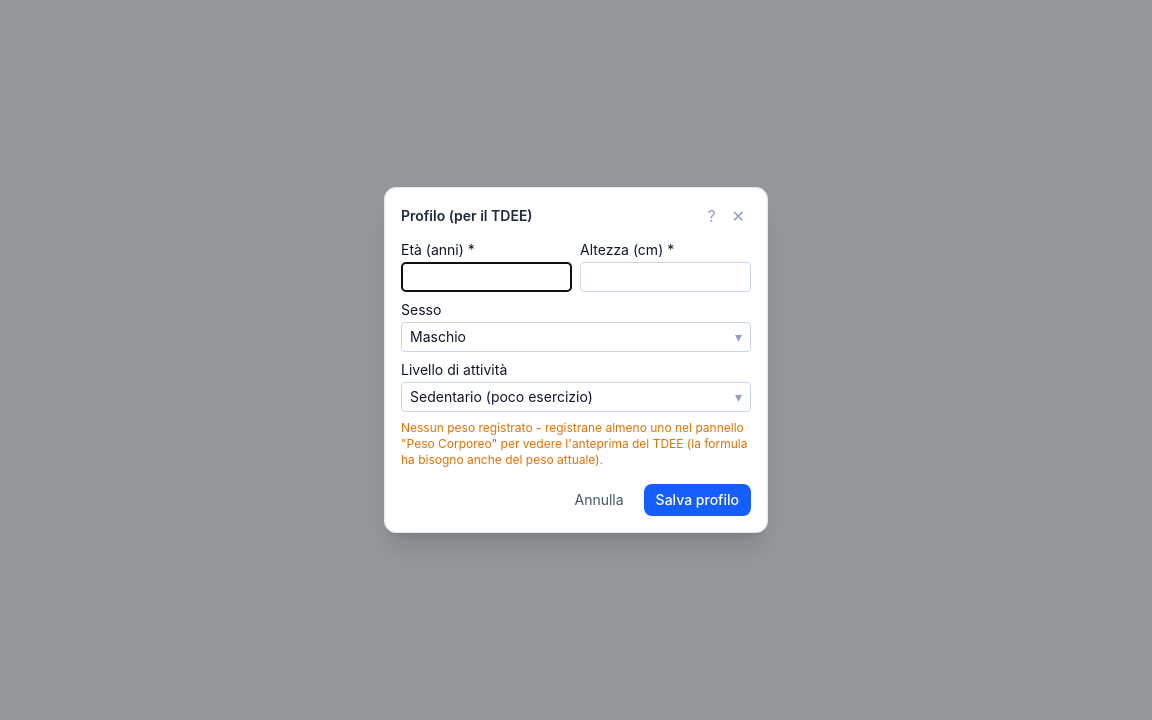
Test: ProfileModal › ProfileModal_etaFuoriRange_mostraErroreSenzaSalvare
The width and height of the screenshot is (1152, 720).
expect the text "Livello di attività" is shown: met, box [401,361,507,378]
Type "200" into the number field labelled "Età (anni) *".
click(486, 277); type("200")  # box [401,262,572,292]
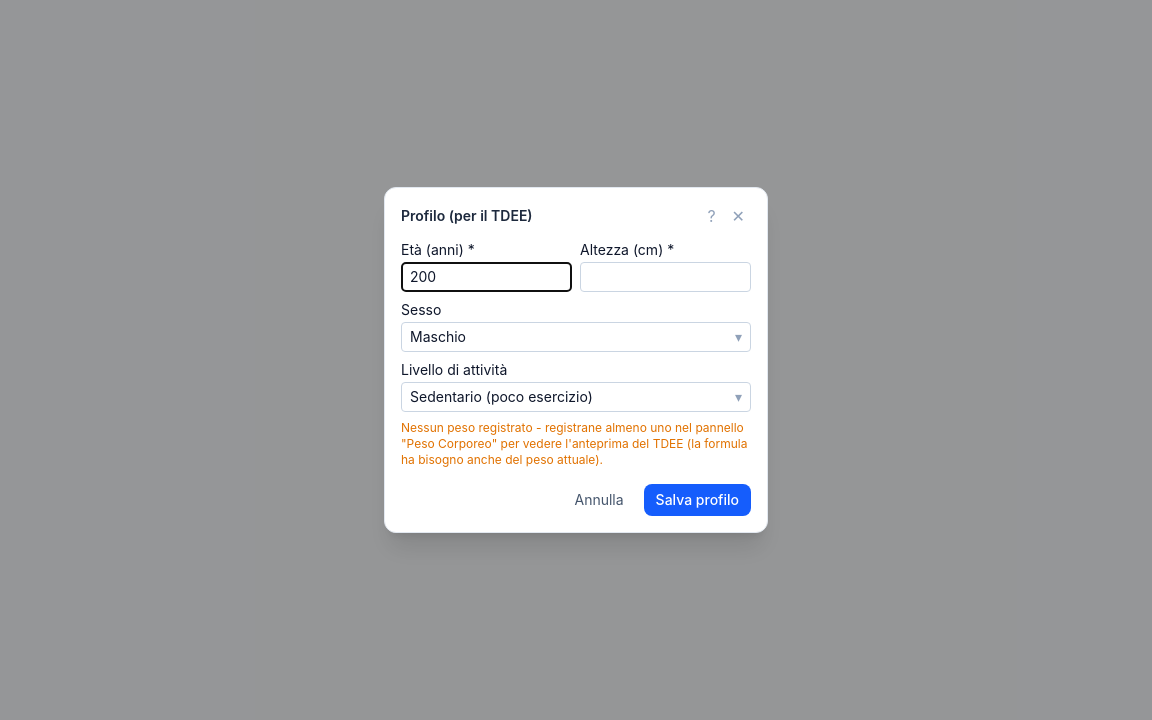
Type "180" into the number field labelled "Altezza (cm) *".
click(666, 277); type("180")  # box [580,262,751,292]
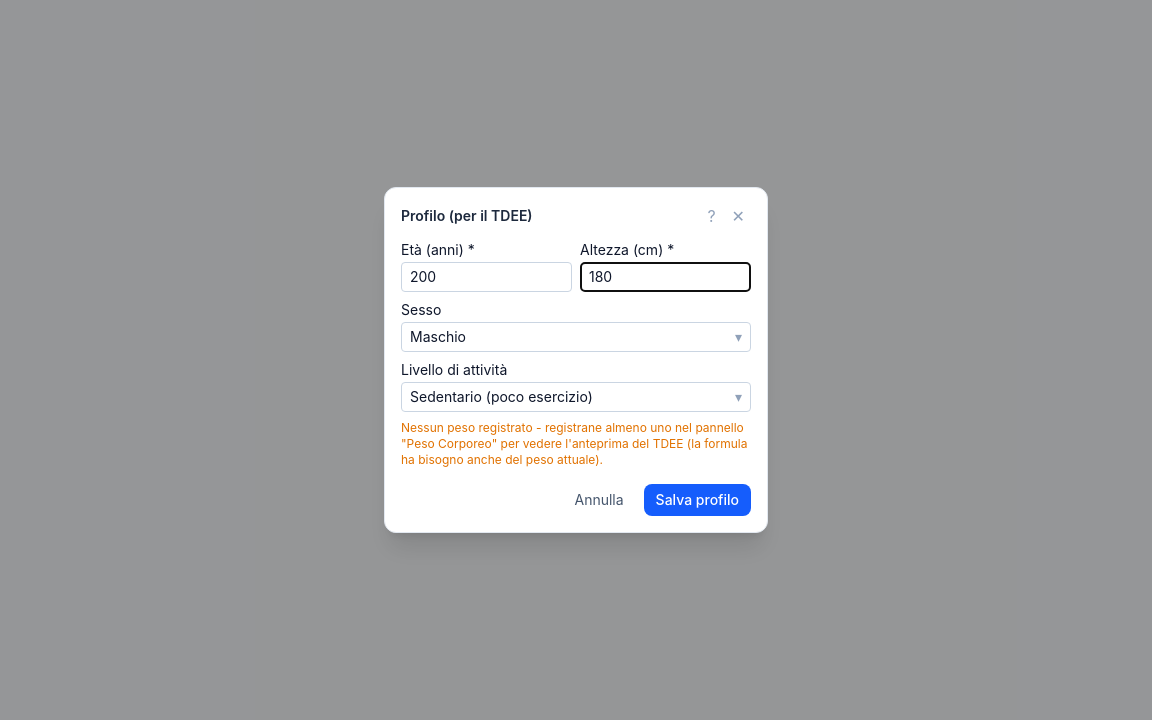
Submit the form labelled "Età (anni) *", box [401,240,751,516]
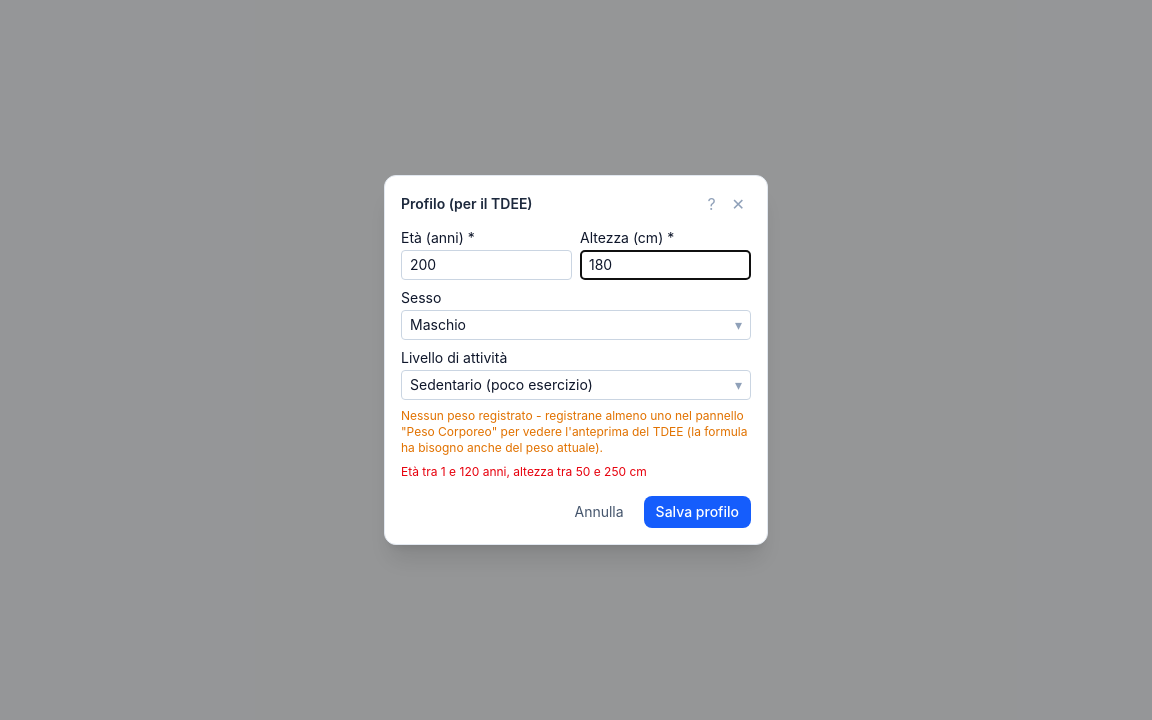
expect the text "Età tra 1 e 120 anni, altezza tra 50 e 250 cm" is shown: met, box [401,464,647,479]
